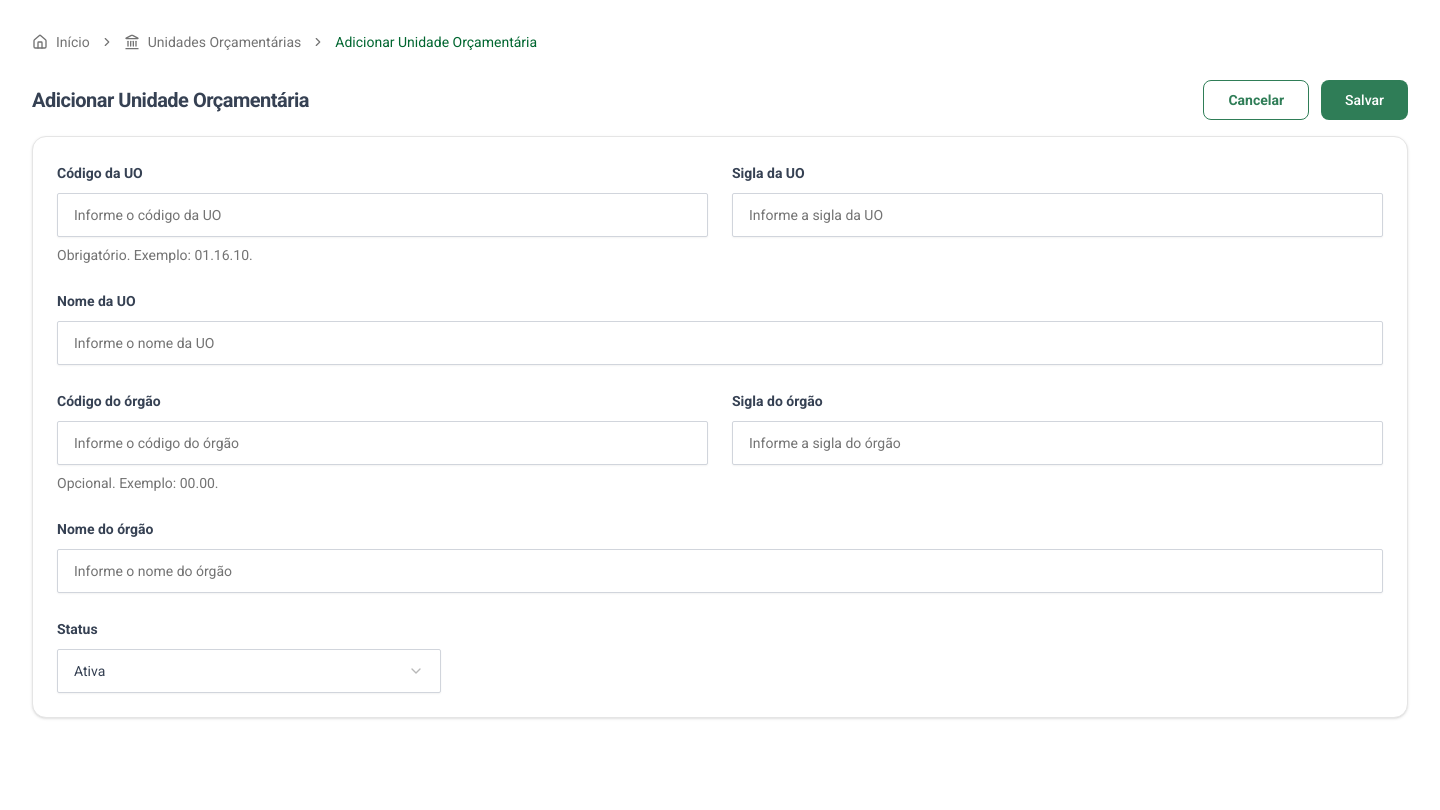
Test: UnidadesOrcamentariasCreatePage › exibe erros de campo vindos do backend (400)
Type "60.60.60" into the field labelled "Código da UO" at (382, 215), box 57,193 -> 708,237
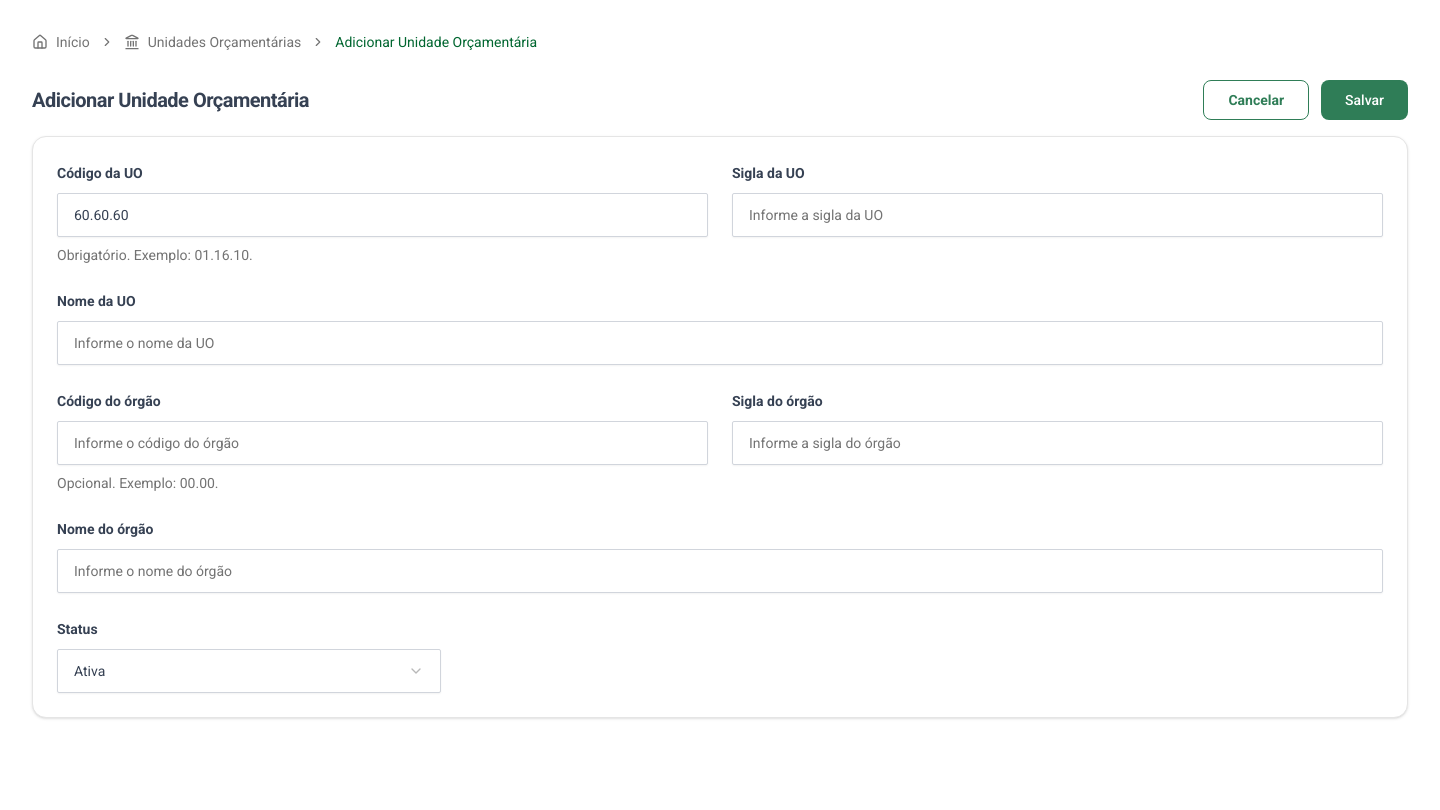
Type "UO60" into the field labelled "Sigla da UO" at (1058, 215), box 732,193 -> 1383,237
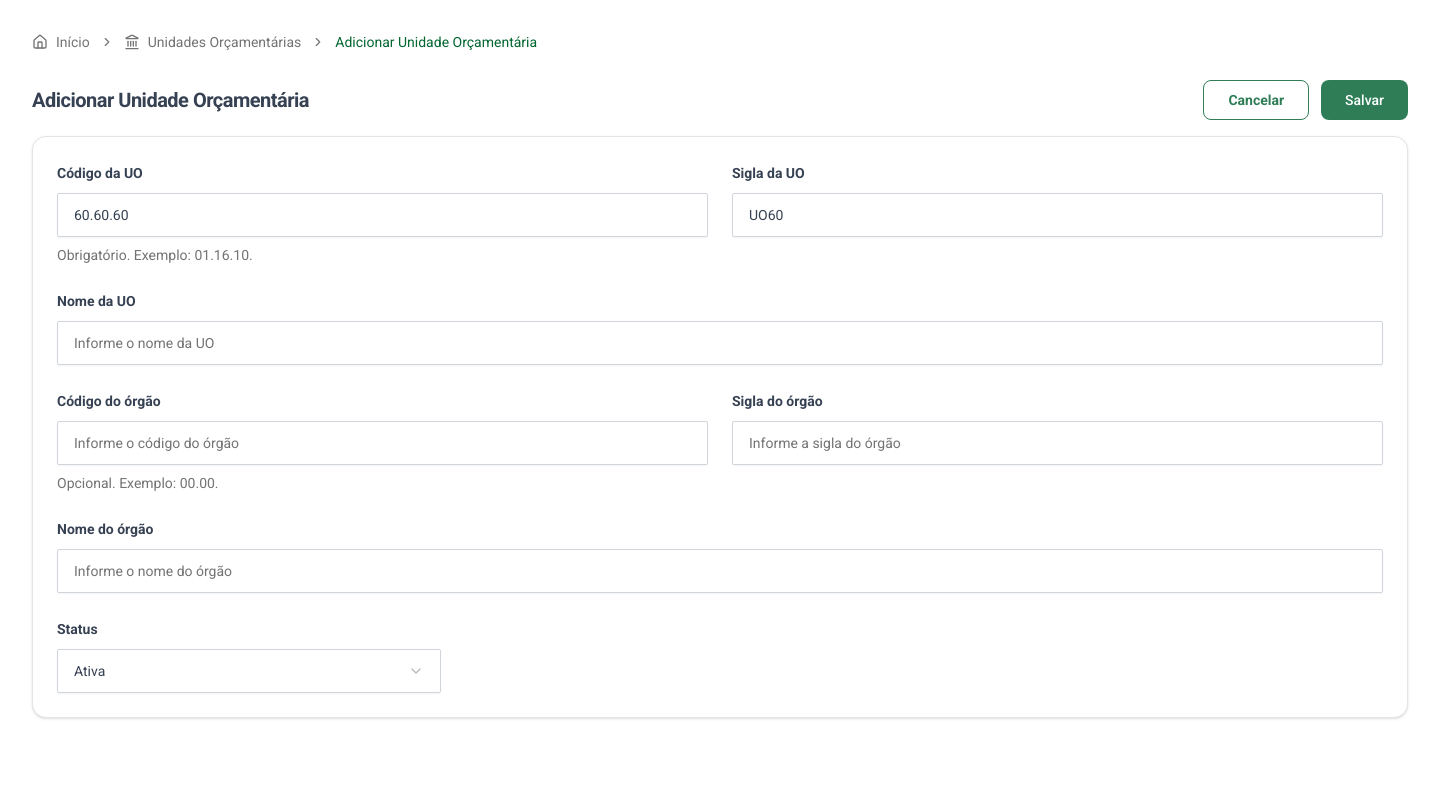
Type "UO 60" into the field labelled "Nome da UO" at (720, 343), box 57,321 -> 1383,365
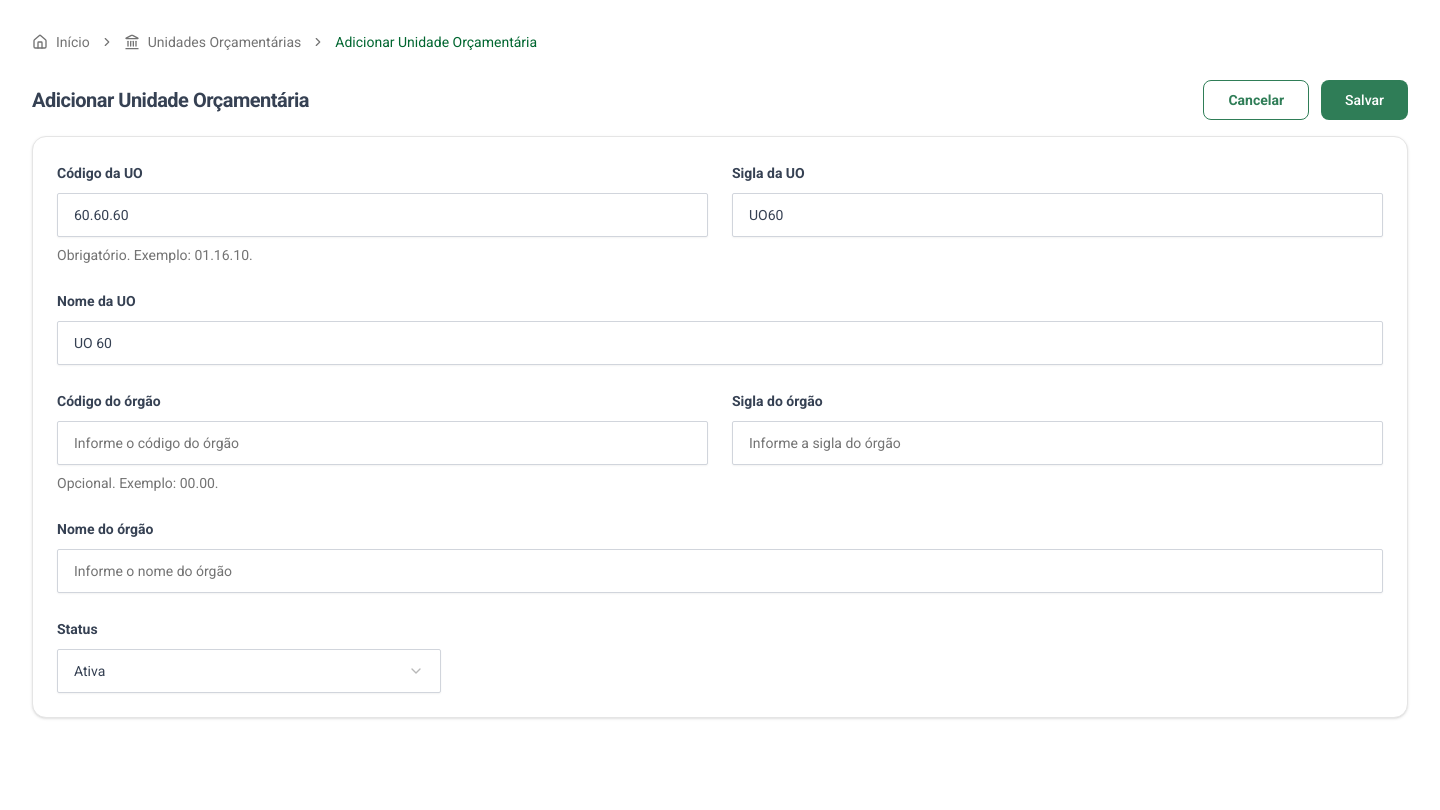
Click the button "Salvar" at (1365, 100), box 1321,80 -> 1408,120
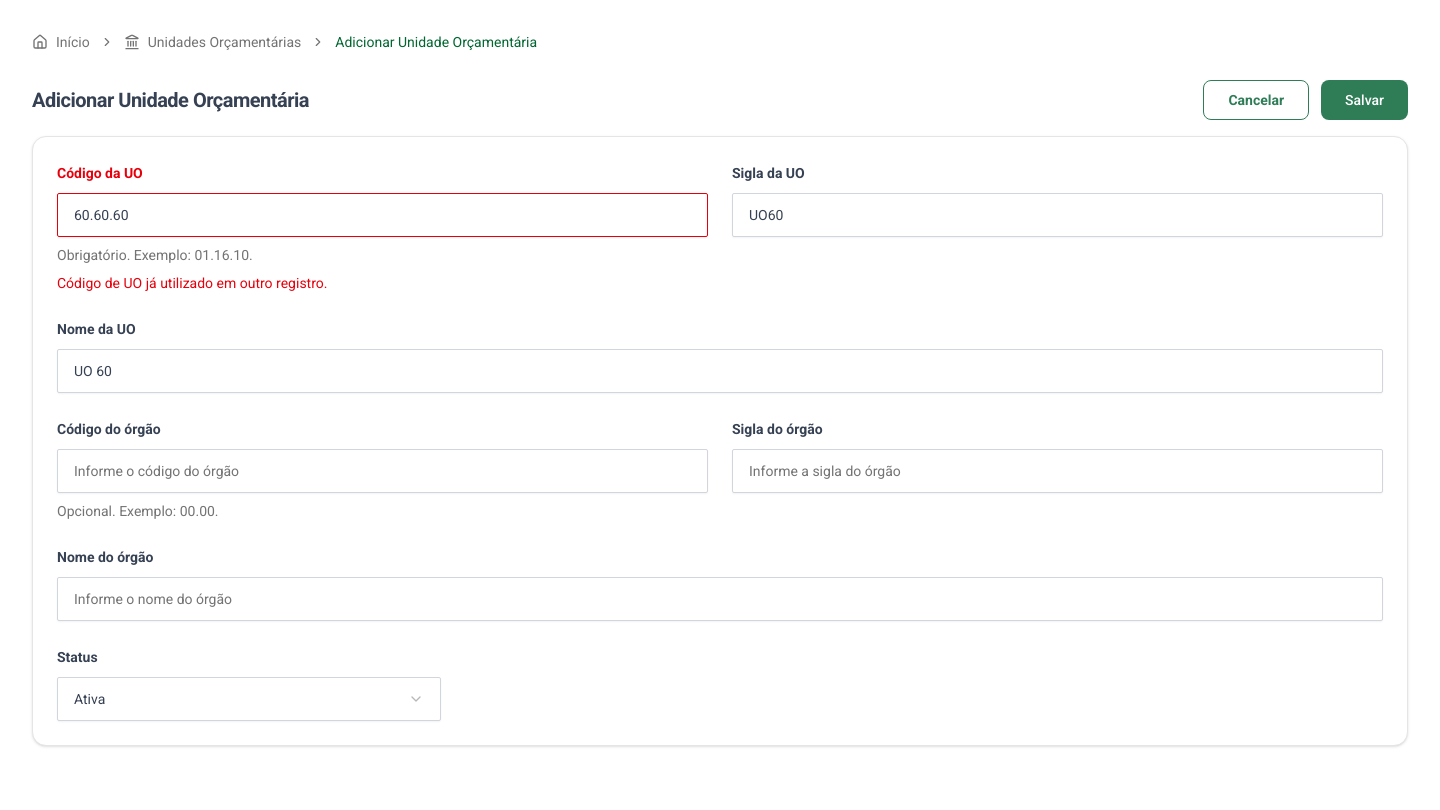
Result: the text "Código de UO já utilizado em outro registro." is shown at 57,275 -> 328,291
